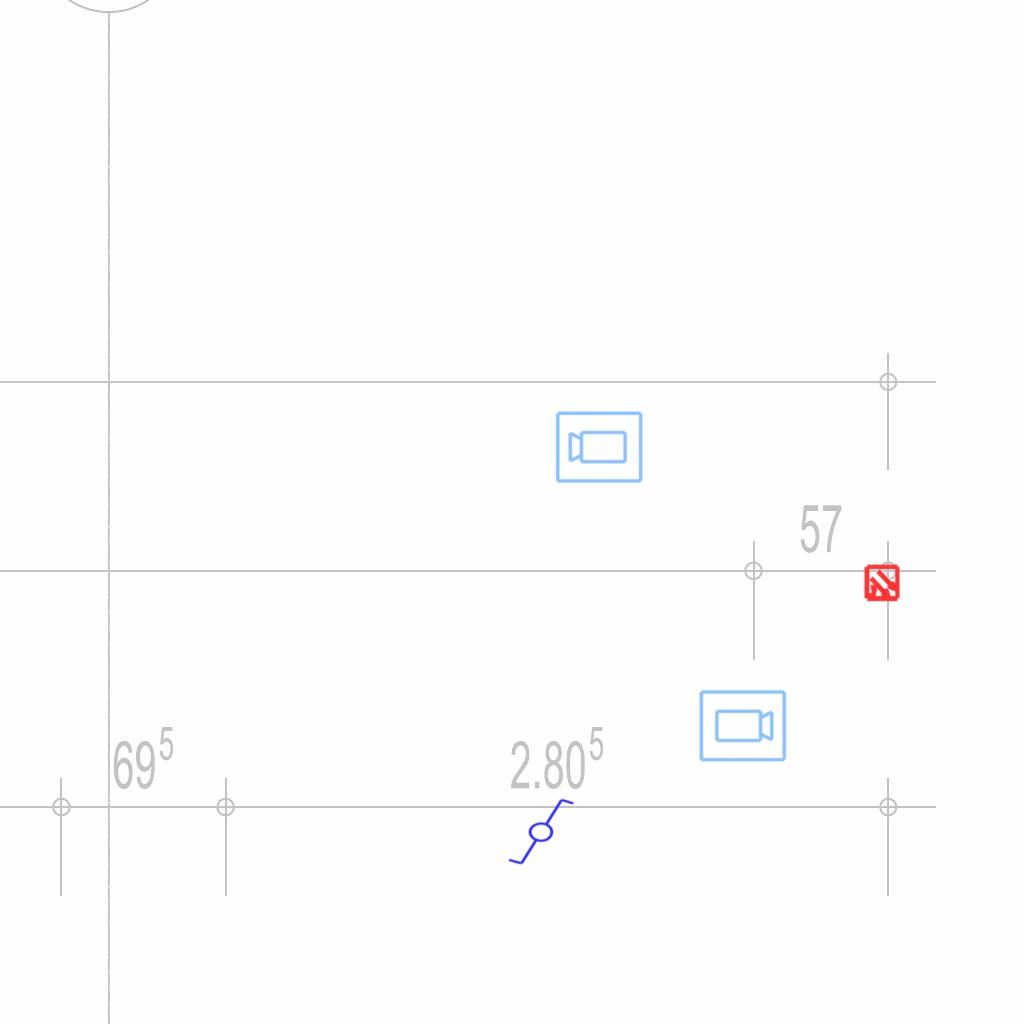KFO_Kamera_mit_Festobjektiv: (554, 408, 645, 485), (697, 688, 788, 765)
OT_Multisensormelder_(Kombination_RMO_WMD): (854, 556, 910, 612)
Wechselschalter: (498, 795, 576, 867)
